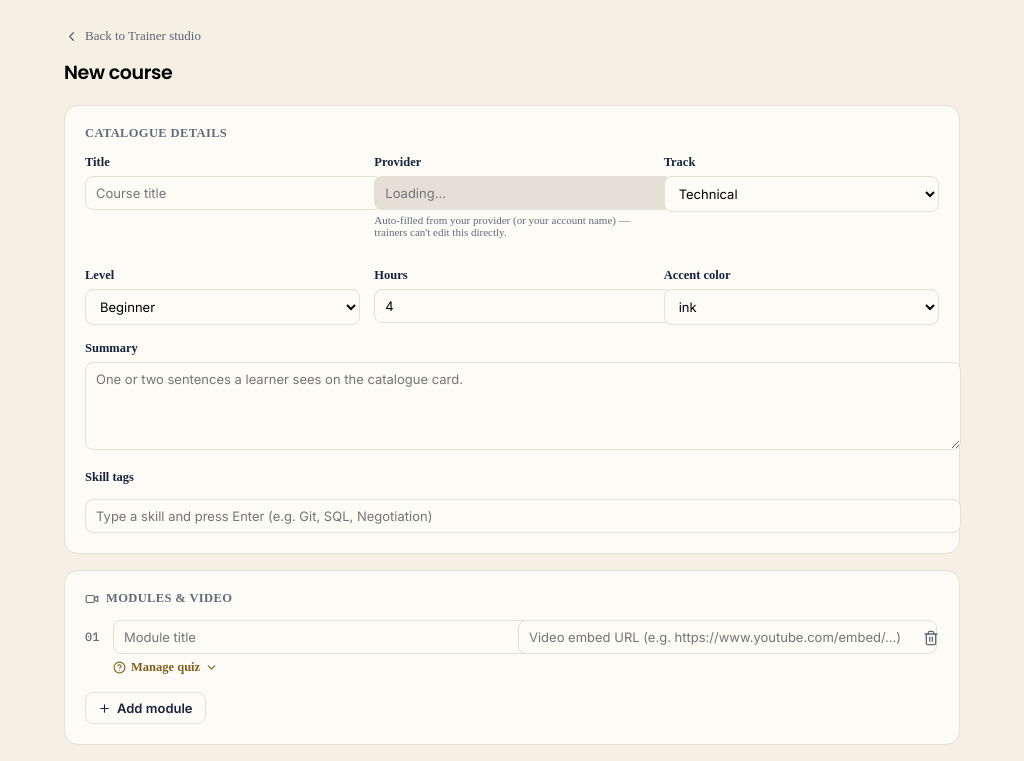
Test: TrainerCourseEditor — save validation › adding a module renders a second module title input
Check: the field with placeholder "Course title" is shown, box x1=85 y1=176 x2=382 y2=210
Click the button "Add module". click: {"x": 145, "y": 708}
box: x1=85 y1=692 x2=206 y2=724
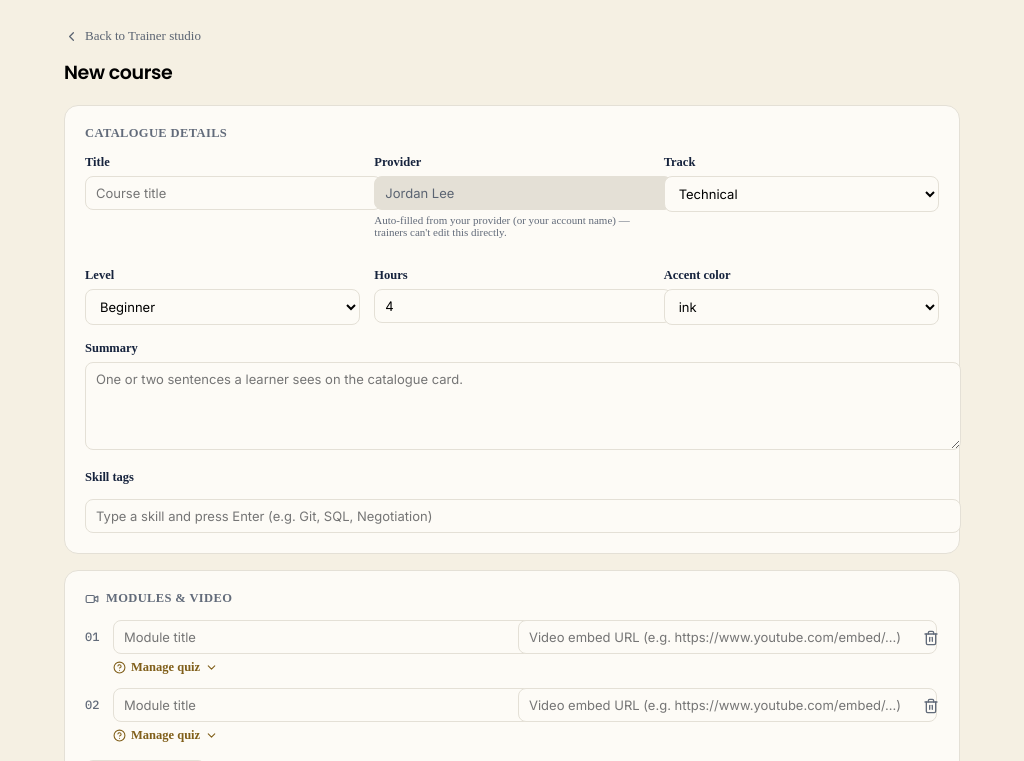
Check: the number of fields with placeholder "Module title" is 2, box x1=113 y1=620 x2=532 y2=654; x1=113 y1=688 x2=532 y2=722
